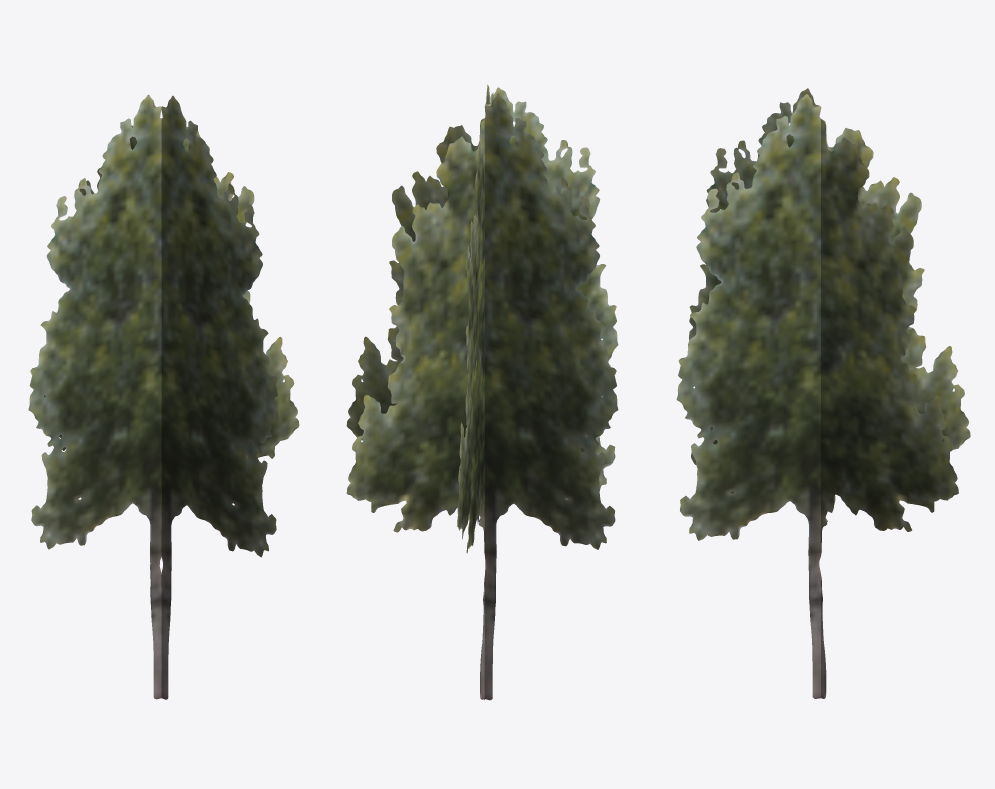
File: tree1.fbx
3 renders of one model, left to right at view 1: azimuth 30°, elevation 25°; view 2: azimuth 150°, elevation 25°; view 3: azimuth 270°, elevation 25°, orthographic.
Visible parts, largest first — view 1: pPlane12; view 2: pPlane12; view 3: pPlane12.
Boxes of the visible parts, left/top/right/bottom form: pPlane12: left=28, top=94, right=299, bottom=699; pPlane12: left=346, top=84, right=618, bottom=700; pPlane12: left=676, top=88, right=970, bottom=698.
Bounding box in the file's own units: 1.5 × 3 × 1.41.
